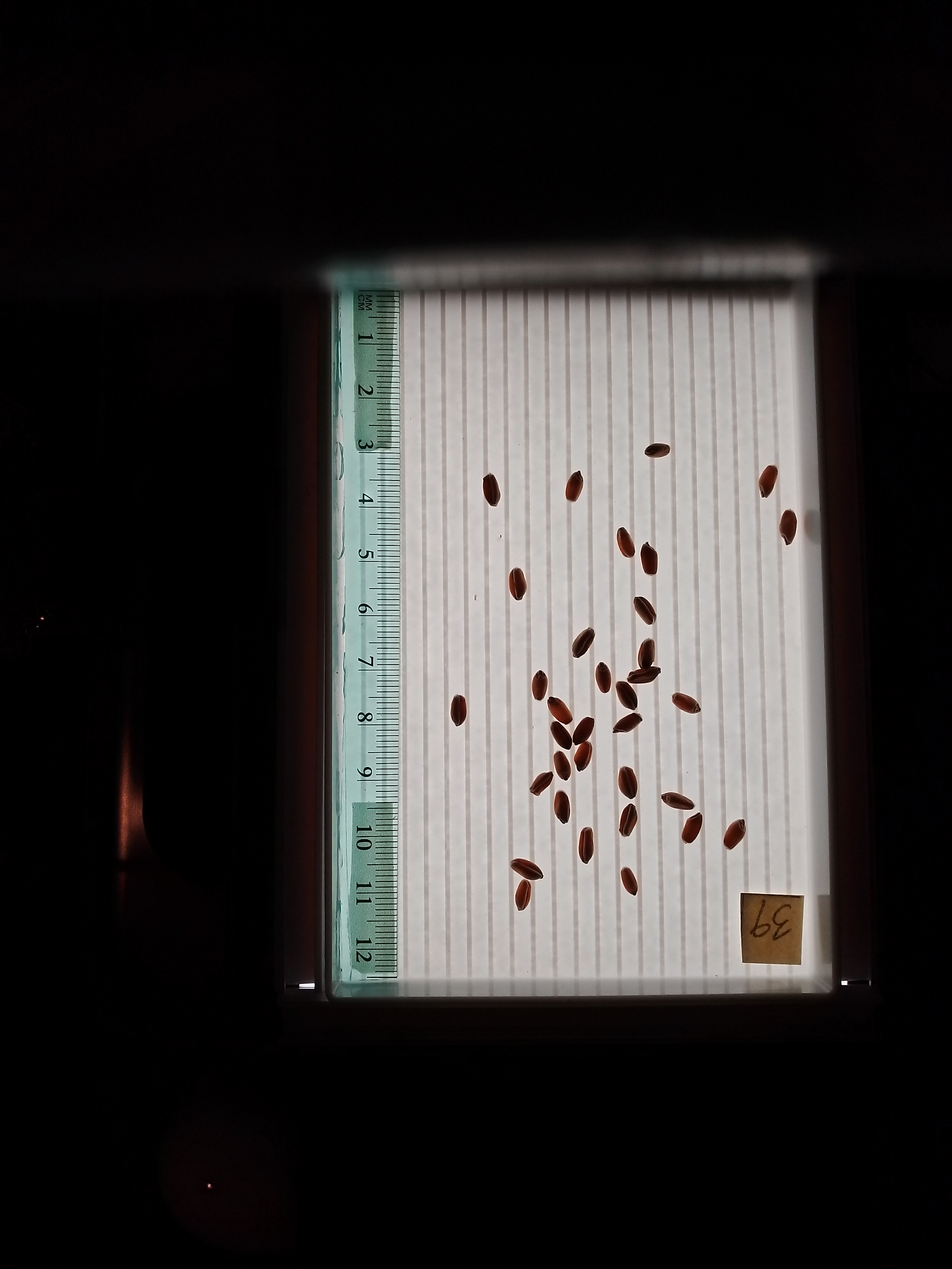seed mask: (723, 819, 746, 851), (572, 628, 594, 658), (618, 766, 638, 799), (511, 859, 542, 880), (548, 697, 572, 724), (759, 465, 778, 497), (619, 805, 638, 836), (573, 716, 594, 744), (617, 681, 637, 710), (780, 510, 797, 544), (509, 568, 527, 600), (565, 472, 584, 502), (634, 597, 655, 624), (673, 693, 700, 714), (578, 828, 594, 863), (640, 544, 658, 575), (683, 814, 702, 843), (662, 793, 694, 810), (514, 881, 532, 911), (483, 475, 500, 506), (617, 528, 635, 557), (551, 723, 571, 749), (450, 695, 467, 725), (574, 743, 592, 771), (553, 752, 571, 780), (554, 792, 570, 823), (531, 772, 552, 795), (629, 668, 659, 684), (532, 671, 548, 700), (621, 868, 638, 895), (639, 639, 655, 667), (596, 664, 611, 693), (645, 443, 669, 457)
